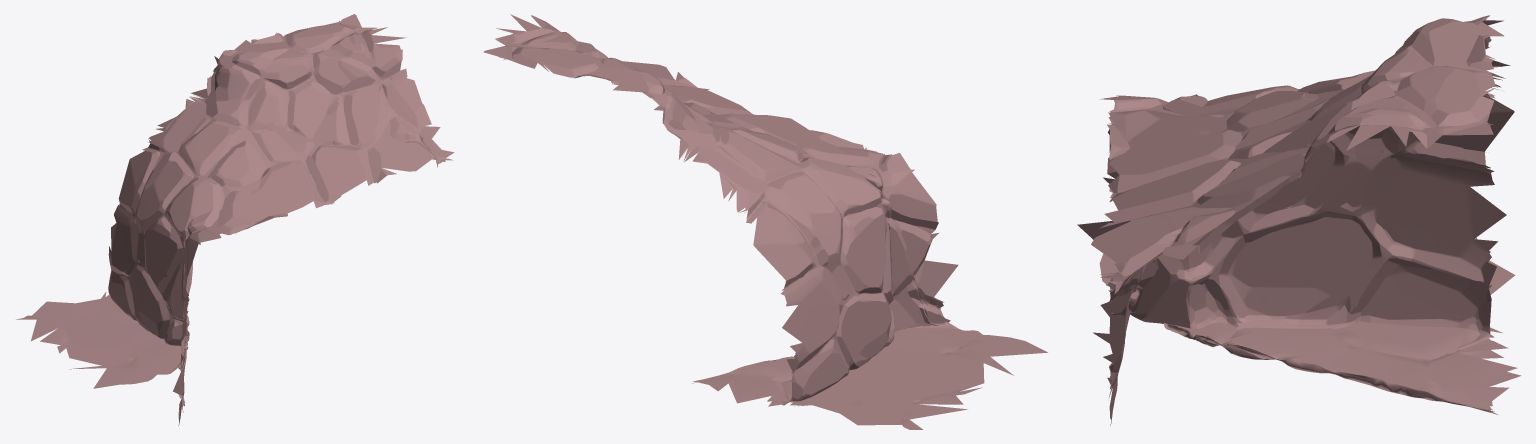
File: cliff_area_2.fbx_Cliff_Area_2_006LODs.fbx
3 views of the same model, side by side, from view 1: azimuth 30°, elevation 25°; view 2: azimuth 150°, elevation 25°; view 3: azimuth 270°, elevation 25° (orthographic). The views are drawn at different scales.
Parts seen in each view (by area): view 1: Cliff Area 2.006_LOD0; view 2: Cliff Area 2.006_LOD0; view 3: Cliff Area 2.006_LOD0.
Boxes of the visible parts, x1,y1,x2,y2 form: Cliff Area 2.006_LOD0: [16, 14, 454, 425]; Cliff Area 2.006_LOD0: [483, 14, 1047, 429]; Cliff Area 2.006_LOD0: [1077, 15, 1521, 425].
Size of what is drawn, in the model's own units: 6802 by 4912 by 3537.
